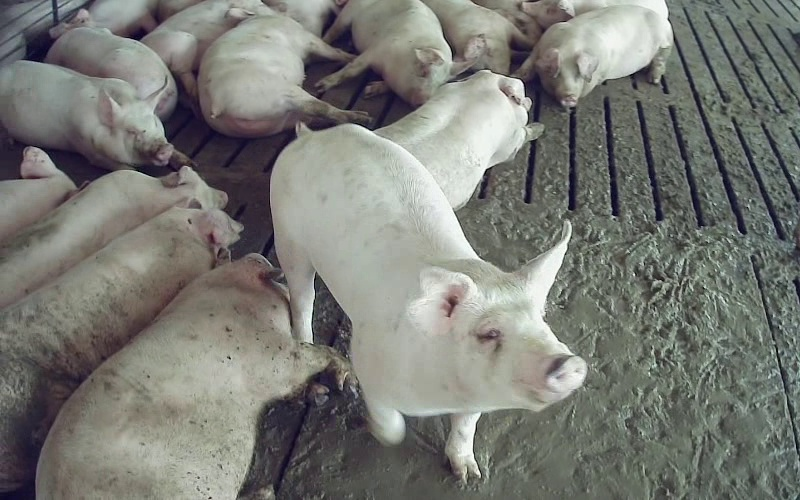pig: (37, 254, 351, 499), (0, 207, 242, 492), (0, 166, 226, 307), (375, 70, 542, 209), (198, 4, 369, 137), (315, 0, 472, 105), (515, 5, 672, 107), (45, 27, 177, 120), (423, 0, 532, 74), (520, 0, 667, 29)
